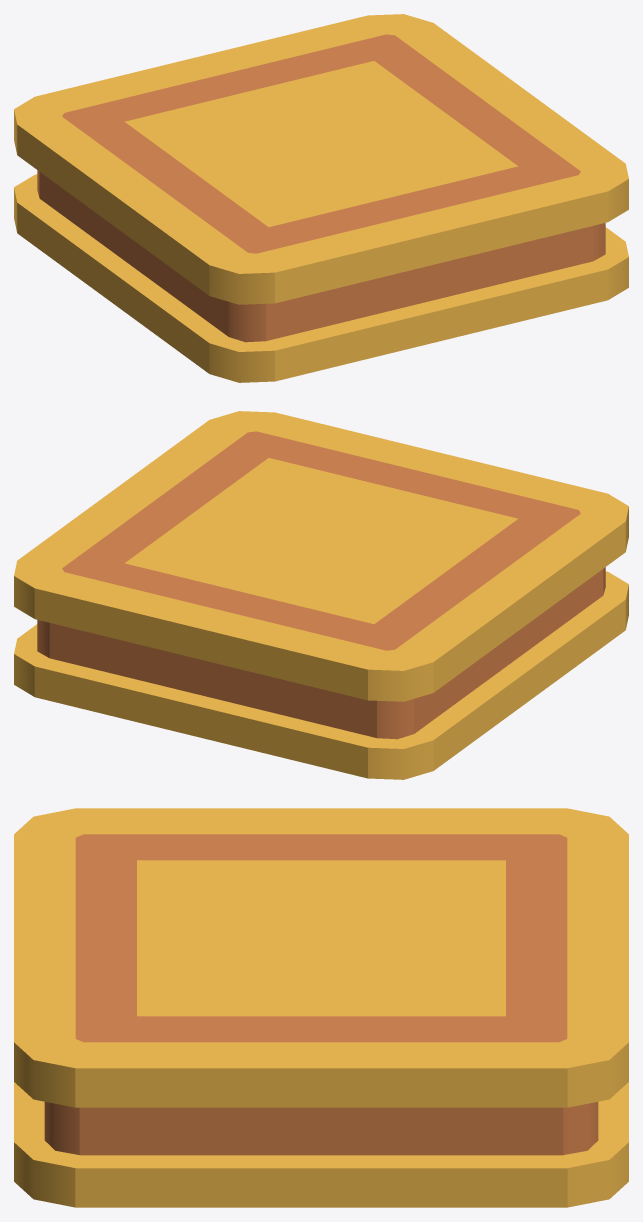
The model's file is blockMoving.dae.
3 views of the same model, one above another, from view 1: azimuth 30°, elevation 25°; view 2: azimuth 150°, elevation 25°; view 3: azimuth 270°, elevation 25° (orthographic). The views are drawn at different scales.
Parts seen in each view (by area): view 1: blockMoving; view 2: blockMoving; view 3: blockMoving.
Part boxes in pixels (x1,y1,x2,y2): blockMoving: (14,14,628,382); blockMoving: (14,411,628,779); blockMoving: (14,808,628,1207).
Bounding box in the file's own units: 1 × 0.25 × 1.
